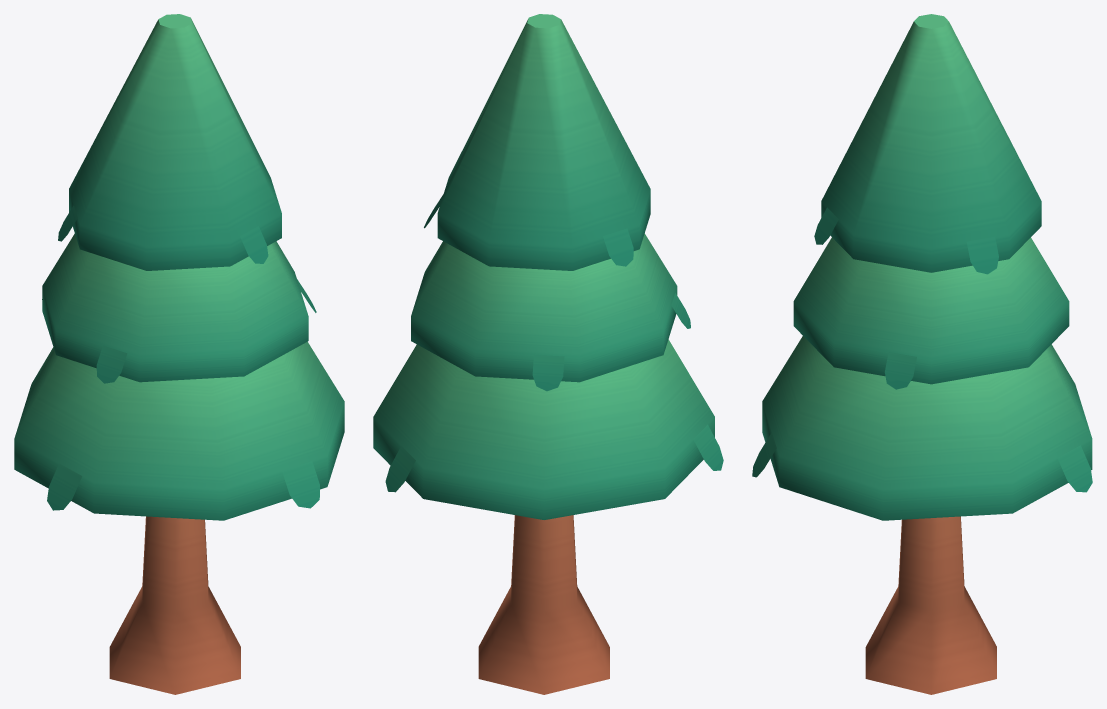
The model's file is tree-large.fbx.
3 renders of one model, left to right at view 1: azimuth 30°, elevation 25°; view 2: azimuth 150°, elevation 25°; view 3: azimuth 270°, elevation 25°, orthographic.
Visible parts, largest first — view 1: tree-large; view 2: tree-large; view 3: tree-large.
Boxes of the visible parts, box(x1,y1,x2,y2) form: tree-large: box(14, 14, 344, 694); tree-large: box(373, 14, 723, 694); tree-large: box(752, 14, 1092, 694).
Bounding box in the file's own units: 0.8887 × 0.8898 × 1.85.
